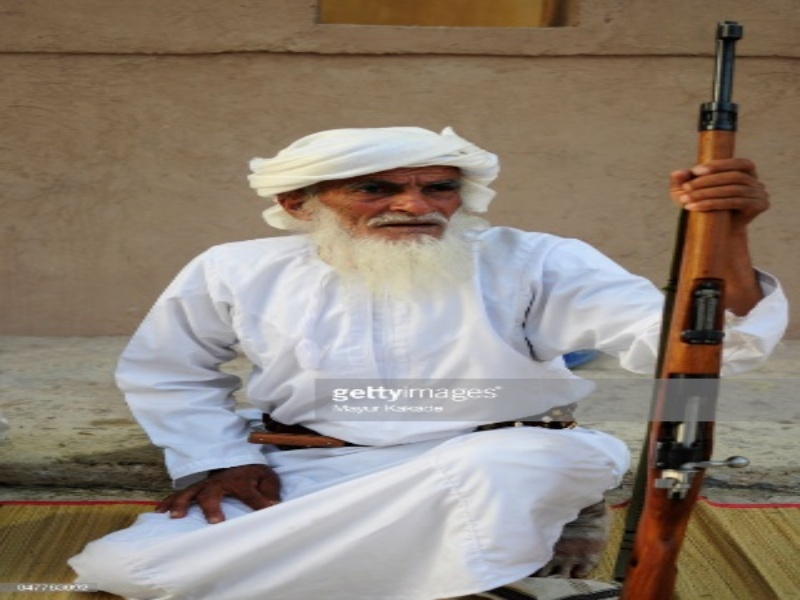person: (67, 126, 788, 600)
weapon: (611, 20, 743, 600)
